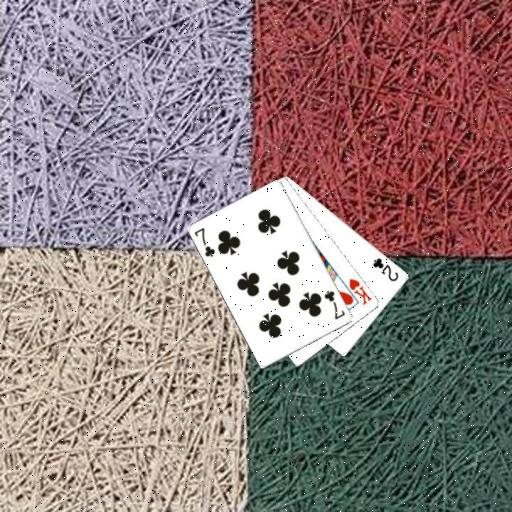2C: (370, 255, 400, 283)
7C: (321, 287, 347, 321), (191, 225, 217, 259)
KH: (347, 275, 374, 307)
